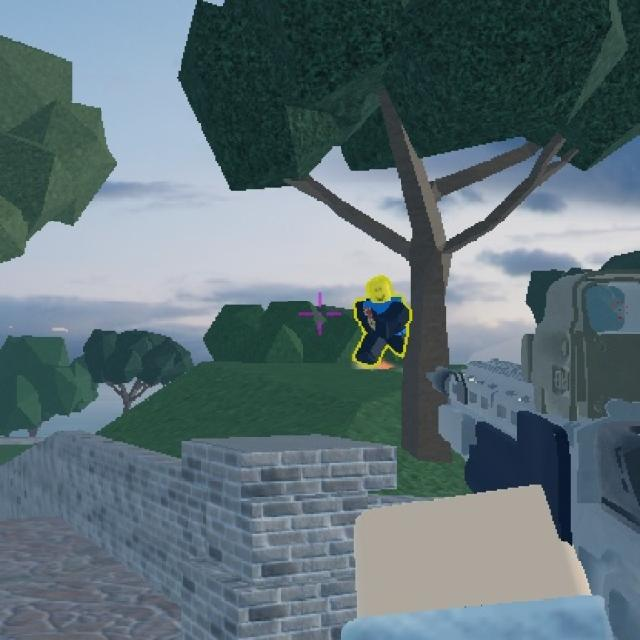player: (350, 269, 407, 364)
